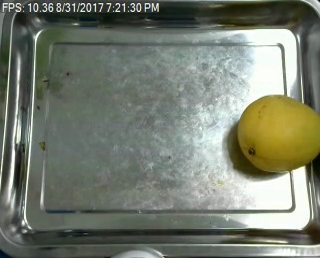Mango: (233, 93, 320, 175)
